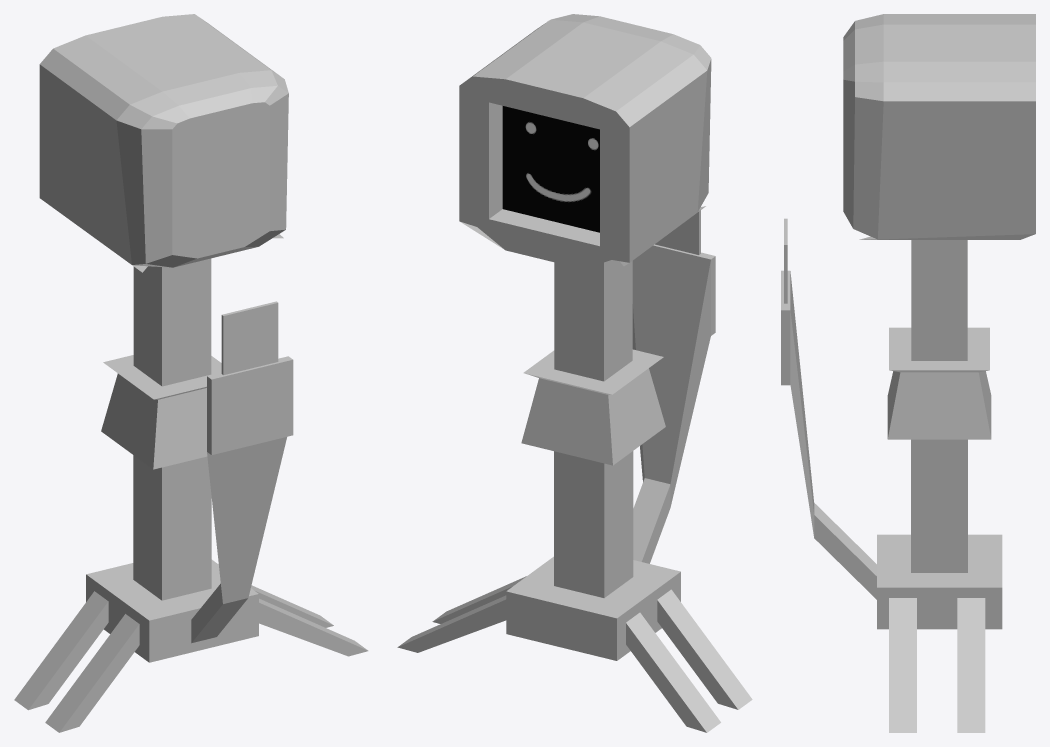
The model's file is ShopKeeper.fbx.
The picture shows the model from 3 angles, left to right: view 1: azimuth 30°, elevation 25°; view 2: azimuth 150°, elevation 25°; view 3: azimuth 270°, elevation 25°; orthographic projection. The views are drawn at different scales.
Visible parts, largest first — view 1: Cube; view 2: Cube; view 3: Cube.
Part boxes in pixels (x1,y1,x2,y2): Cube: (14, 14, 368, 732); Cube: (397, 14, 752, 732); Cube: (781, 14, 1035, 732).
Size of the model in its own units: 559 by 1085 by 406.
